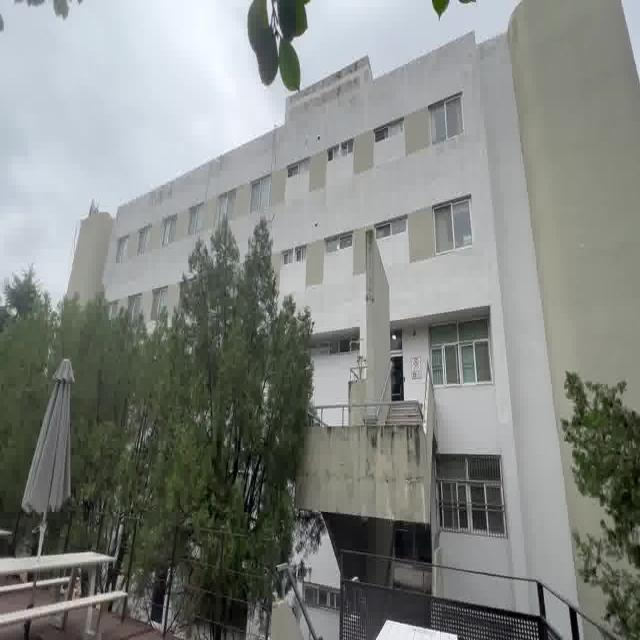building: (312, 58, 554, 522)
